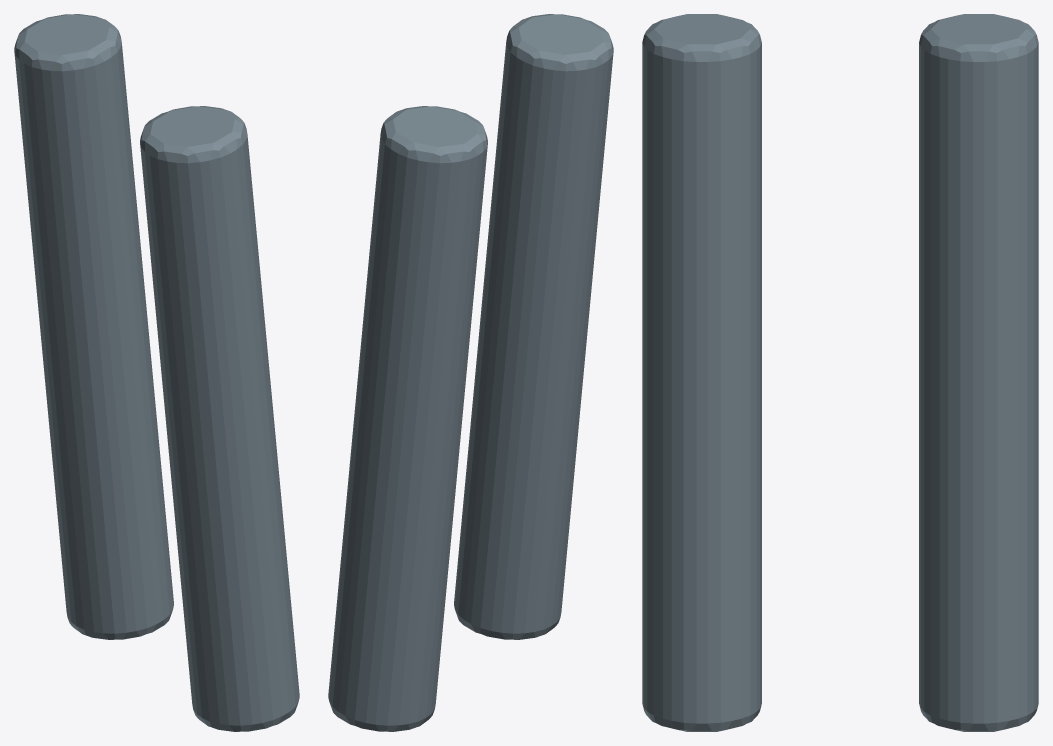
The model's file is SM_Lab_RobotArm__Wrist.fbx.
3 views of the same model, side by side, from view 1: azimuth 30°, elevation 25°; view 2: azimuth 150°, elevation 25°; view 3: azimuth 270°, elevation 25° (orthographic). The views are drawn at different scales.
Parts seen in each view (by area): view 1: SM_Lab_RobotArm__Wrist; view 2: SM_Lab_RobotArm__Wrist; view 3: SM_Lab_RobotArm__Wrist.
Boxes of the visible parts, x1=… form: SM_Lab_RobotArm__Wrist: x1=14, y1=14, x2=299, y2=731; SM_Lab_RobotArm__Wrist: x1=328, y1=14, x2=613, y2=731; SM_Lab_RobotArm__Wrist: x1=642, y1=14, x2=1038, y2=731.
Bounding box in the file's own units: 5.33 × 11.46 × 21.25.
